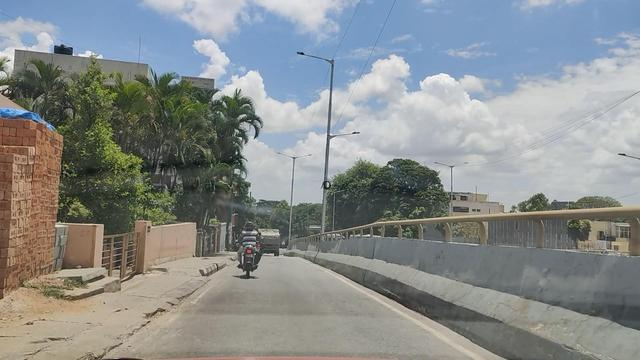LMV: (236, 220, 266, 270)
RoadDamages: (90, 300, 183, 348)
